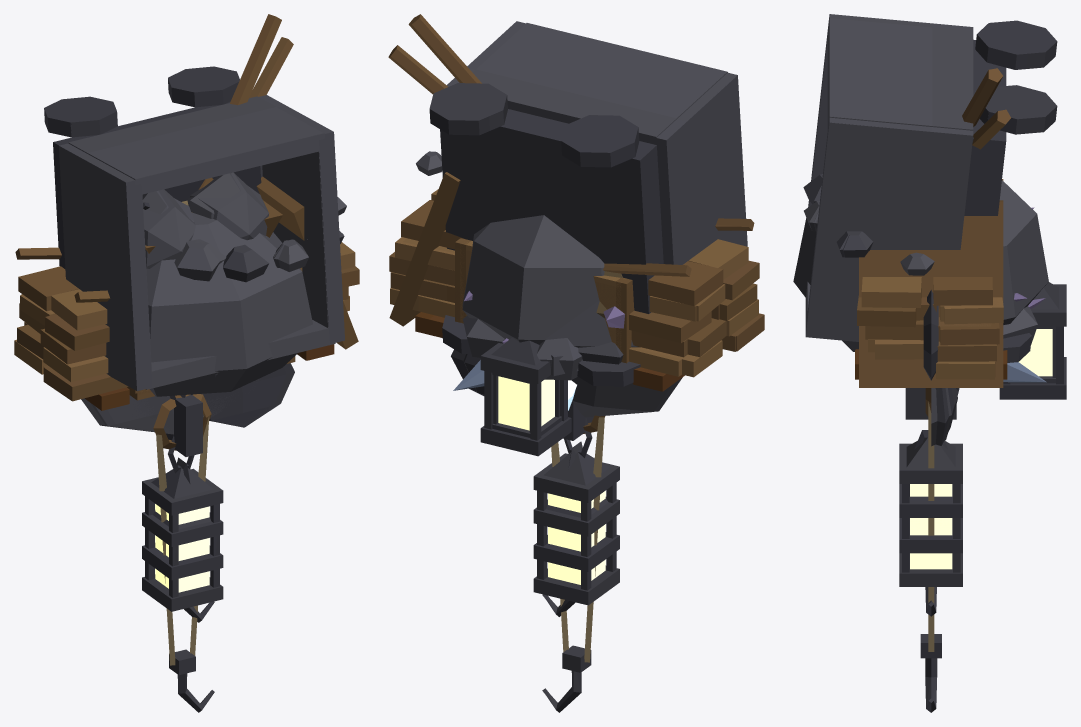
The model's file is mines.glb.
The picture shows the model from 3 angles, left to right: view 1: azimuth 30°, elevation 25°; view 2: azimuth 150°, elevation 25°; view 3: azimuth 270°, elevation 25°; orthographic projection. The views are drawn at different scales.
Visible parts, largest first — view 1: mines_tipped_cart_a, mines_tipped_cart_b, mines_pickaxe_in_rock_a, mines_plank_stack_b, mines_hanging_lantern_a, mines_hanging_lantern_b, mines_plank_stack_a, mines_ore_vein_a, mines_pulley_hook_a, mines_pulley_hook_b, mines_ore_vein_b, mines_dynamite_crate_b (+2 smaller); view 2: mines_tipped_cart_a, mines_pickaxe_in_rock_a, mines_tipped_cart_b, mines_plank_stack_b, mines_wall_lantern_b, mines_hanging_lantern_a, mines_hanging_lantern_b, mines_plank_stack_a, mines_dynamite_crate_b, mines_ore_vein_a, mines_pickaxe_in_rock_b, mines_pulley_hook_b (+7 smaller); view 3: mines_tipped_cart_a, mines_tipped_cart_b, mines_dynamite_crate_b, mines_plank_stack_b, mines_pickaxe_in_rock_a, mines_hanging_lantern_a, mines_hanging_lantern_b, mines_wall_lantern_b, mines_plank_stack_a, mines_pulley_hook_b, mines_ore_vein_a, mines_pulley_hook_a (+4 smaller).
Boxes of the visible parts, box(x1,y1,x2,y2) form: mines_tipped_cart_a: box(44, 66, 344, 391); mines_tipped_cart_b: box(71, 82, 346, 371); mines_pickaxe_in_rock_a: box(146, 14, 312, 396); mines_plank_stack_b: box(18, 242, 355, 410); mines_hanging_lantern_a: box(142, 394, 223, 580); mines_hanging_lantern_b: box(142, 457, 223, 611); mines_plank_stack_a: box(14, 266, 359, 403); mines_ore_vein_a: box(90, 367, 286, 434); mines_pulley_hook_a: box(153, 394, 214, 622); mines_pulley_hook_b: box(156, 418, 214, 712); mines_ore_vein_b: box(81, 363, 294, 433); mines_dynamite_crate_b: box(130, 176, 358, 395); mines_tipped_cart_a: box(429, 21, 747, 386); mines_pickaxe_in_rock_a: box(408, 14, 604, 344); mines_tipped_cart_b: box(416, 21, 736, 175); mines_plank_stack_b: box(389, 189, 762, 391); mines_wall_lantern_b: box(480, 337, 571, 456); mines_hanging_lantern_a: box(533, 418, 619, 571); mines_hanging_lantern_b: box(533, 441, 619, 605); mines_plank_stack_a: box(403, 238, 764, 384); mines_dynamite_crate_b: box(389, 172, 633, 362); mines_ore_vein_a: box(451, 349, 671, 417); mines_pickaxe_in_rock_b: box(388, 45, 640, 347); mines_pulley_hook_b: box(542, 417, 604, 712); mines_tipped_cart_a: box(805, 14, 1057, 362); mines_tipped_cart_b: box(803, 14, 1044, 307); mines_dynamite_crate_b: box(859, 179, 1003, 387); mines_plank_stack_b: box(855, 277, 1007, 379); mines_pickaxe_in_rock_a: box(793, 68, 1048, 351); mines_hanging_lantern_a: box(899, 437, 962, 553); mines_hanging_lantern_b: box(899, 430, 962, 586); mines_wall_lantern_b: box(999, 282, 1066, 399); mines_plank_stack_a: box(855, 296, 1006, 363); mines_pulley_hook_b: box(920, 401, 941, 712); mines_ore_vein_a: box(935, 362, 1046, 445); mines_pulley_hook_a: box(905, 388, 956, 616).
Size of the model in its own units: 0.8713 by 1.81 by 0.6432.
